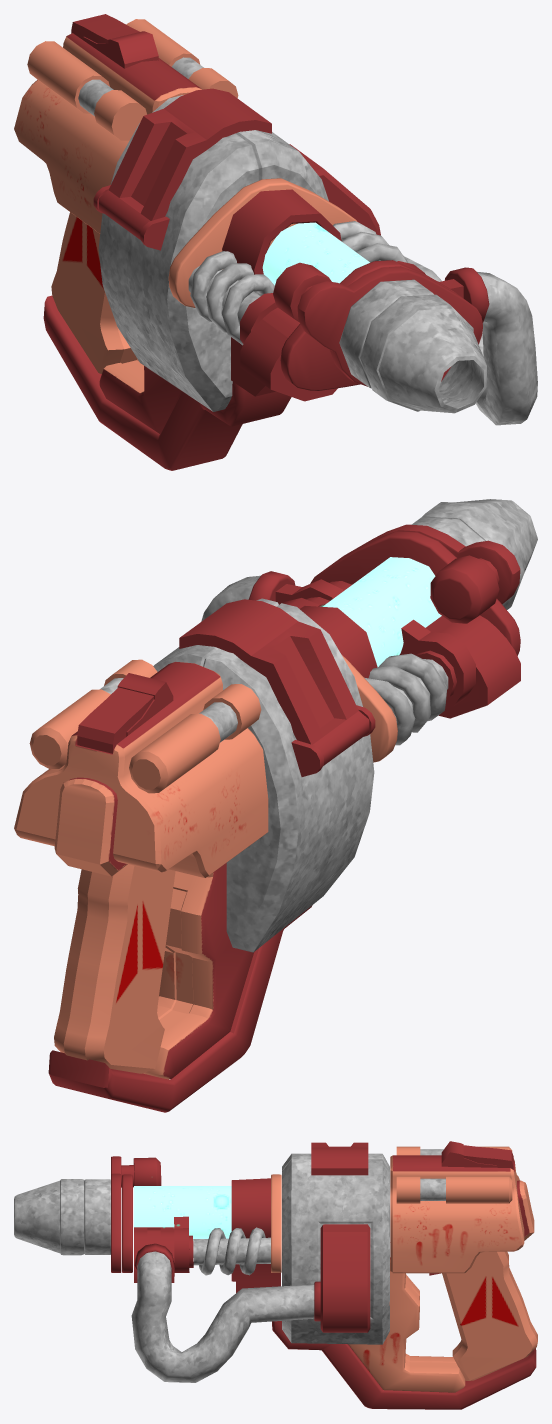
Rendered from smg1.glb.
3 renders of one model, top to bottom at view 1: azimuth 30°, elevation 25°; view 2: azimuth 150°, elevation 25°; view 3: azimuth 270°, elevation 25°, orthographic. The views are drawn at different scales.
Parts seen in each view (by area): view 1: Box001_lp002.001; view 2: Box001_lp002.001; view 3: Box001_lp002.001.
Part boxes in pixels (x1,y1,x2,y2): Box001_lp002.001: [14, 14, 537, 470]; Box001_lp002.001: [14, 499, 537, 1112]; Box001_lp002.001: [14, 1141, 537, 1409].
Bounding box in the file's own units: 0.1428 × 0.1809 × 0.3361.
1 material, 1 textured.
